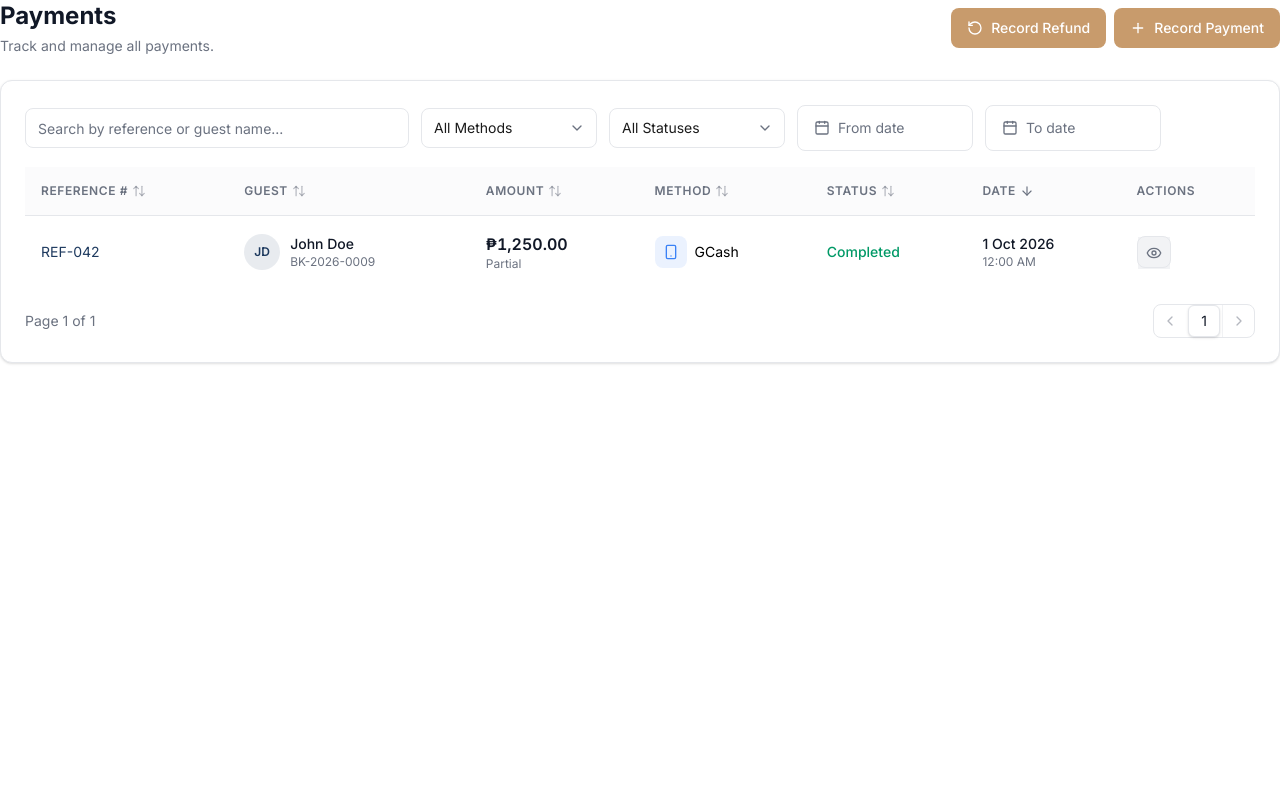
Scenario: PaymentsPage › renders a friendly detail modal with amount, method, and reservation details
This screenshot has width=1280, height=800.
Click the button "REF-042": {"x": 70, "y": 252} [41,242,100,262]
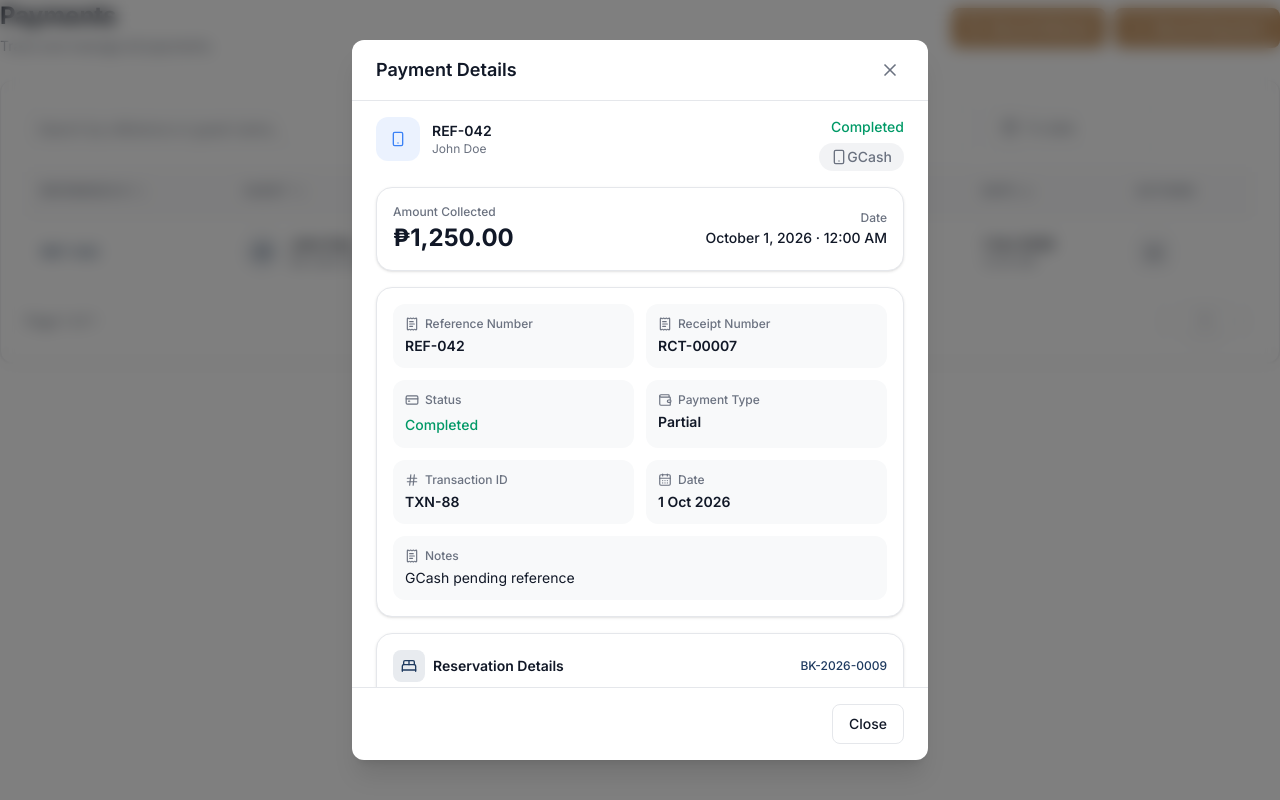
expect the text "Amount Collected" is shown: met, box [393,204,496,219]
expect the text "Partial" is shown: met, box [658,413,701,430]
expect the text "TXN-88" is shown: met, box [405,493,459,510]
Click the button "Close": {"x": 868, "y": 724} [832,704,904,744]
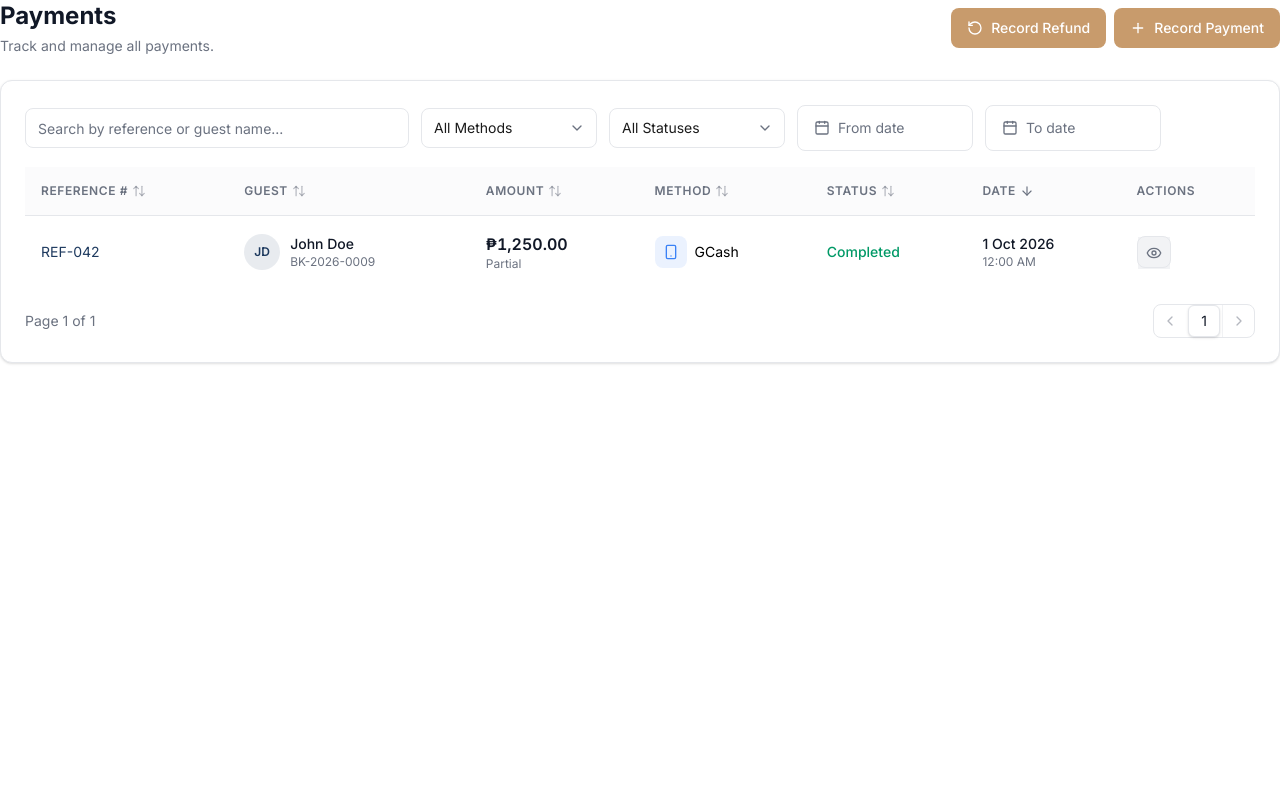
expect the text "Amount Collected" is gone: met
